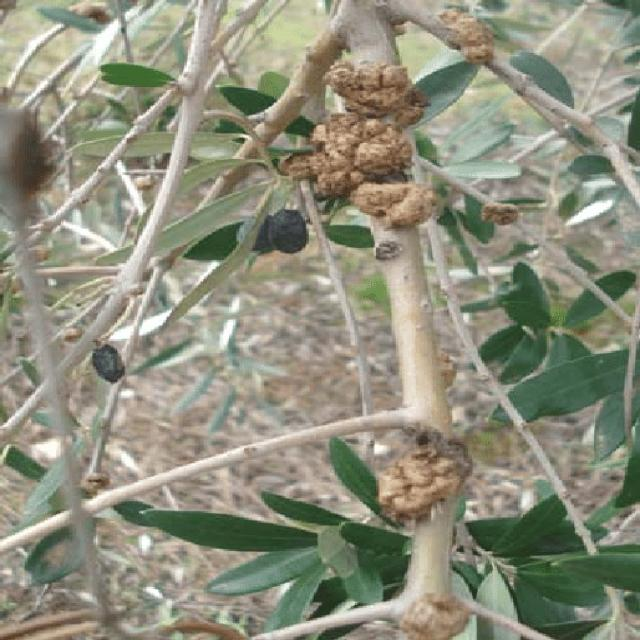Tuberculosis: (281, 61, 436, 228), (379, 436, 469, 522), (400, 593, 469, 639), (440, 9, 494, 64)
